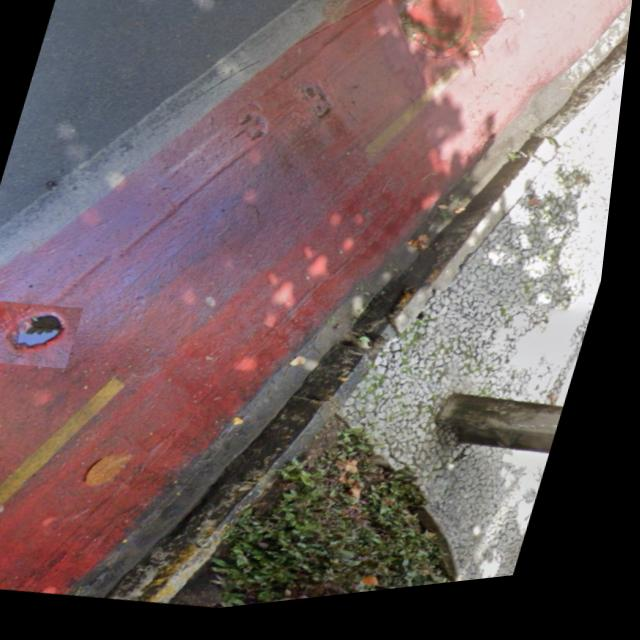Bueiro: (377, 0, 510, 92)
Buraco: (0, 294, 91, 379)
